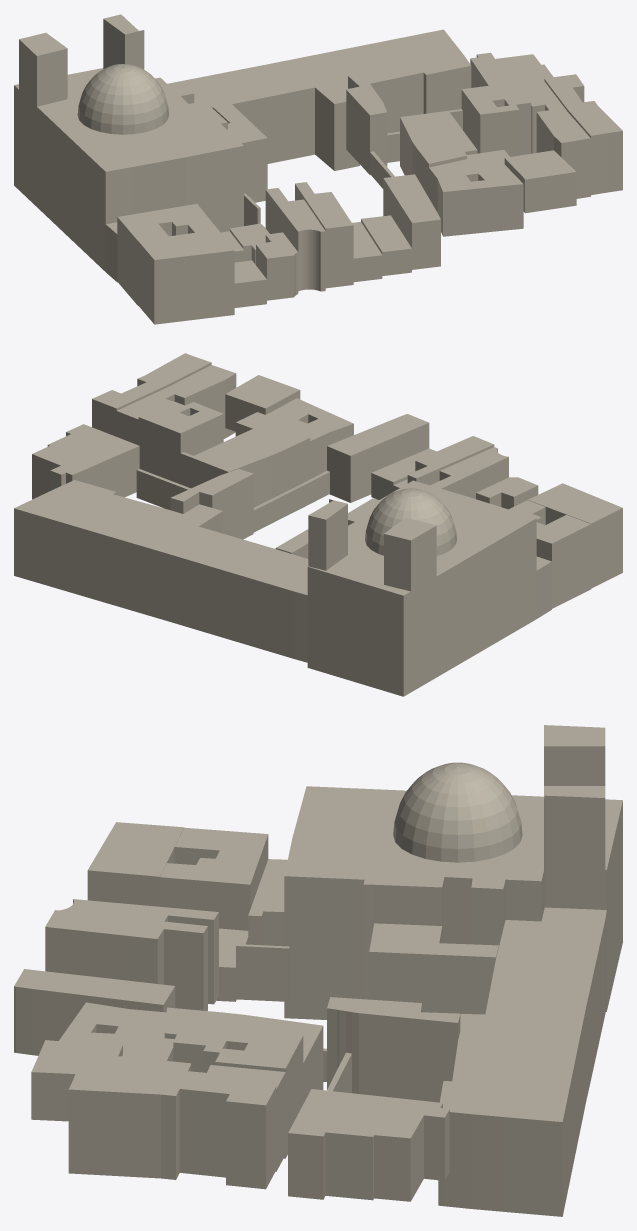
Rendered from bormla_60_28_far.glb.
3 renders of one model, top to bottom at view 1: azimuth 30°, elevation 25°; view 2: azimuth 150°, elevation 25°; view 3: azimuth 270°, elevation 25°, orthographic. The views are drawn at different scales.
Parts seen in each view (by area): view 1: geometry_0; view 2: geometry_0; view 3: geometry_0.
Part boxes in pixels (x1=…): geometry_0: x1=14, y1=14, x2=622, y2=324; geometry_0: x1=14, y1=353, x2=622, y2=696; geometry_0: x1=14, y1=725, x2=622, y2=1216.
Bounding box in the file's own units: 89.77 × 26.84 × 69.34.
